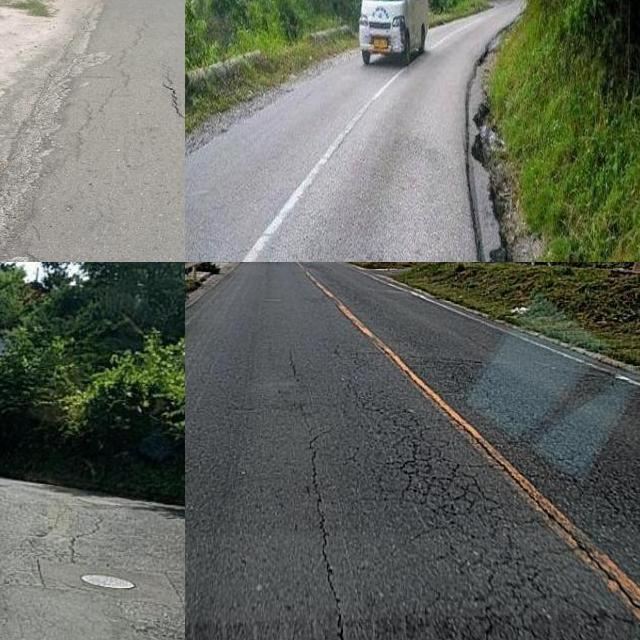Pinggir: (440, 36, 568, 262)
Retak Buaya: (359, 404, 600, 640)
